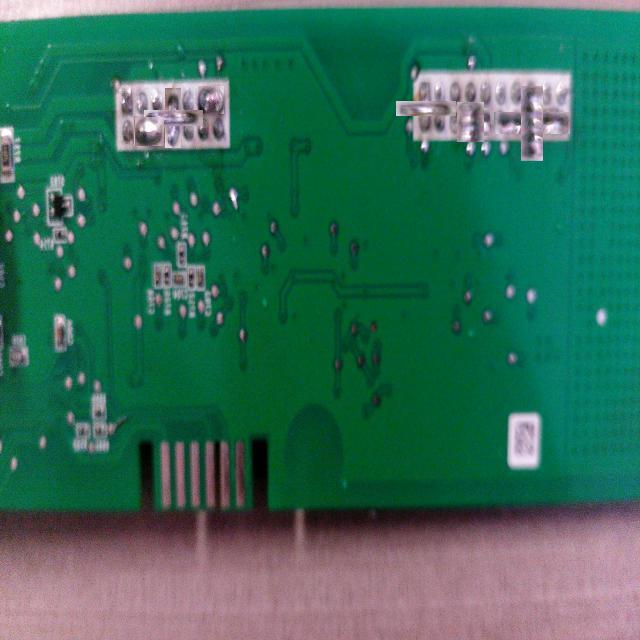Short_circuit: (508, 98, 557, 148), (407, 89, 445, 127), (154, 99, 192, 137), (453, 106, 487, 140), (134, 116, 164, 146), (198, 86, 224, 114)
